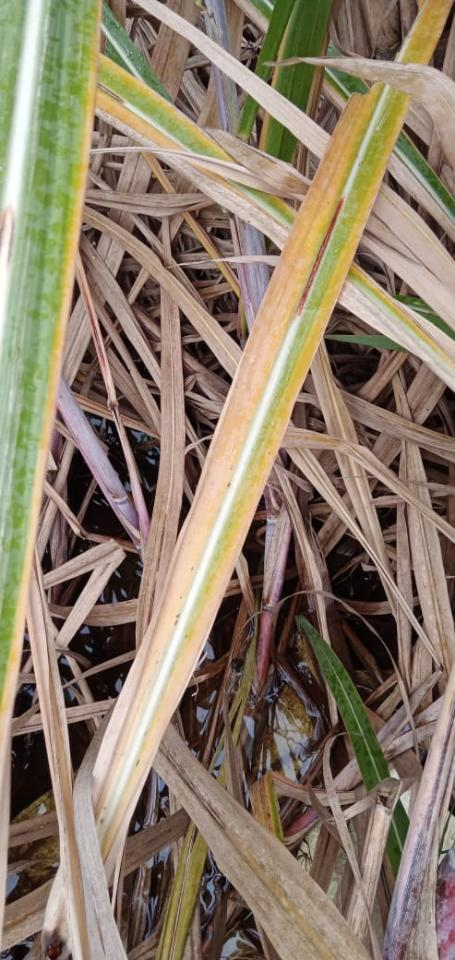RedRot: (293, 194, 346, 324), (0, 206, 17, 271)
Yellow: (100, 94, 412, 884), (92, 83, 383, 832), (0, 0, 101, 717), (99, 52, 237, 163), (350, 264, 450, 361), (95, 89, 187, 151), (403, 0, 453, 65), (272, 195, 295, 215)
